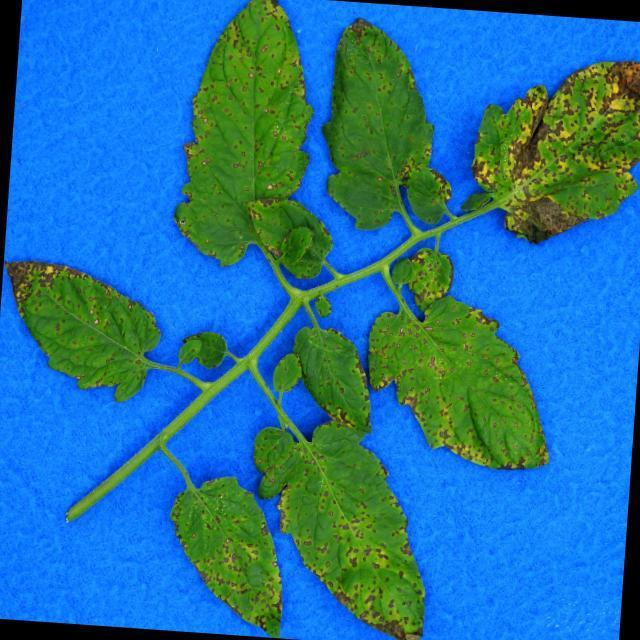Bacterial Spot: (174, 0, 320, 272), (468, 46, 640, 275), (316, 0, 462, 238), (359, 297, 554, 473), (279, 430, 423, 640), (2, 247, 162, 411), (174, 476, 270, 634), (288, 322, 376, 427), (384, 244, 470, 299), (176, 320, 228, 379)
